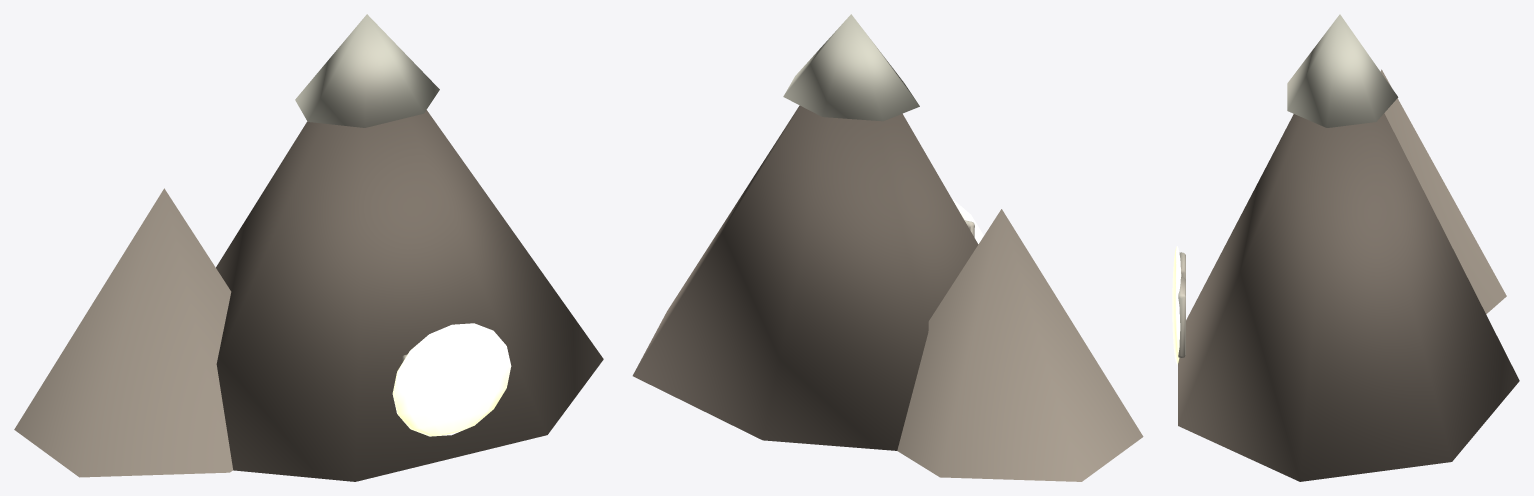
File: sinai.glb
3 views of the same model, side by side, from view 1: azimuth 30°, elevation 25°; view 2: azimuth 150°, elevation 25°; view 3: azimuth 270°, elevation 25° (orthographic). The views are drawn at different scales.
Parts seen in each view (by area): view 1: sinai; view 2: sinai; view 3: sinai.
Boxes of the visible parts, left/top/right/bottom form: sinai: left=14, top=14, right=603, bottom=481; sinai: left=632, top=14, right=1143, bottom=481; sinai: left=1172, top=14, right=1519, bottom=481.
Bounding box in the file's own units: 6.74 × 4.79 × 4.11.
